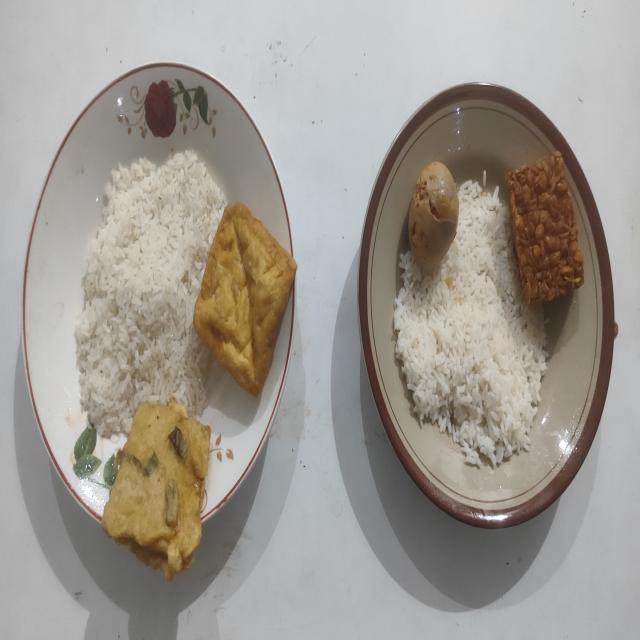nasi_putih: (393, 181, 547, 466), (75, 150, 226, 437)
tahu_goreng: (194, 202, 298, 396)
tempe_goreng: (506, 151, 584, 302)
